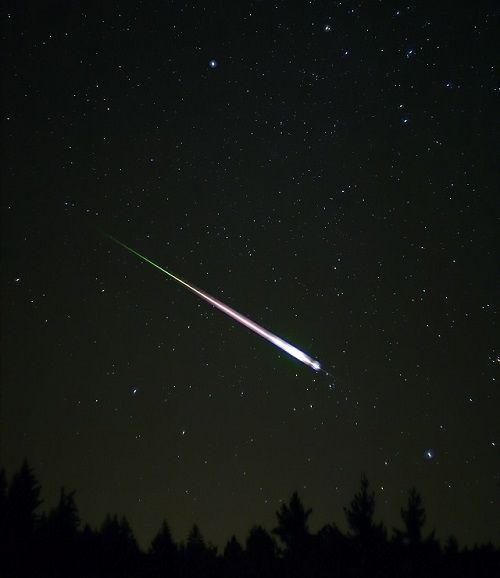meteor: (282, 339, 332, 381)
